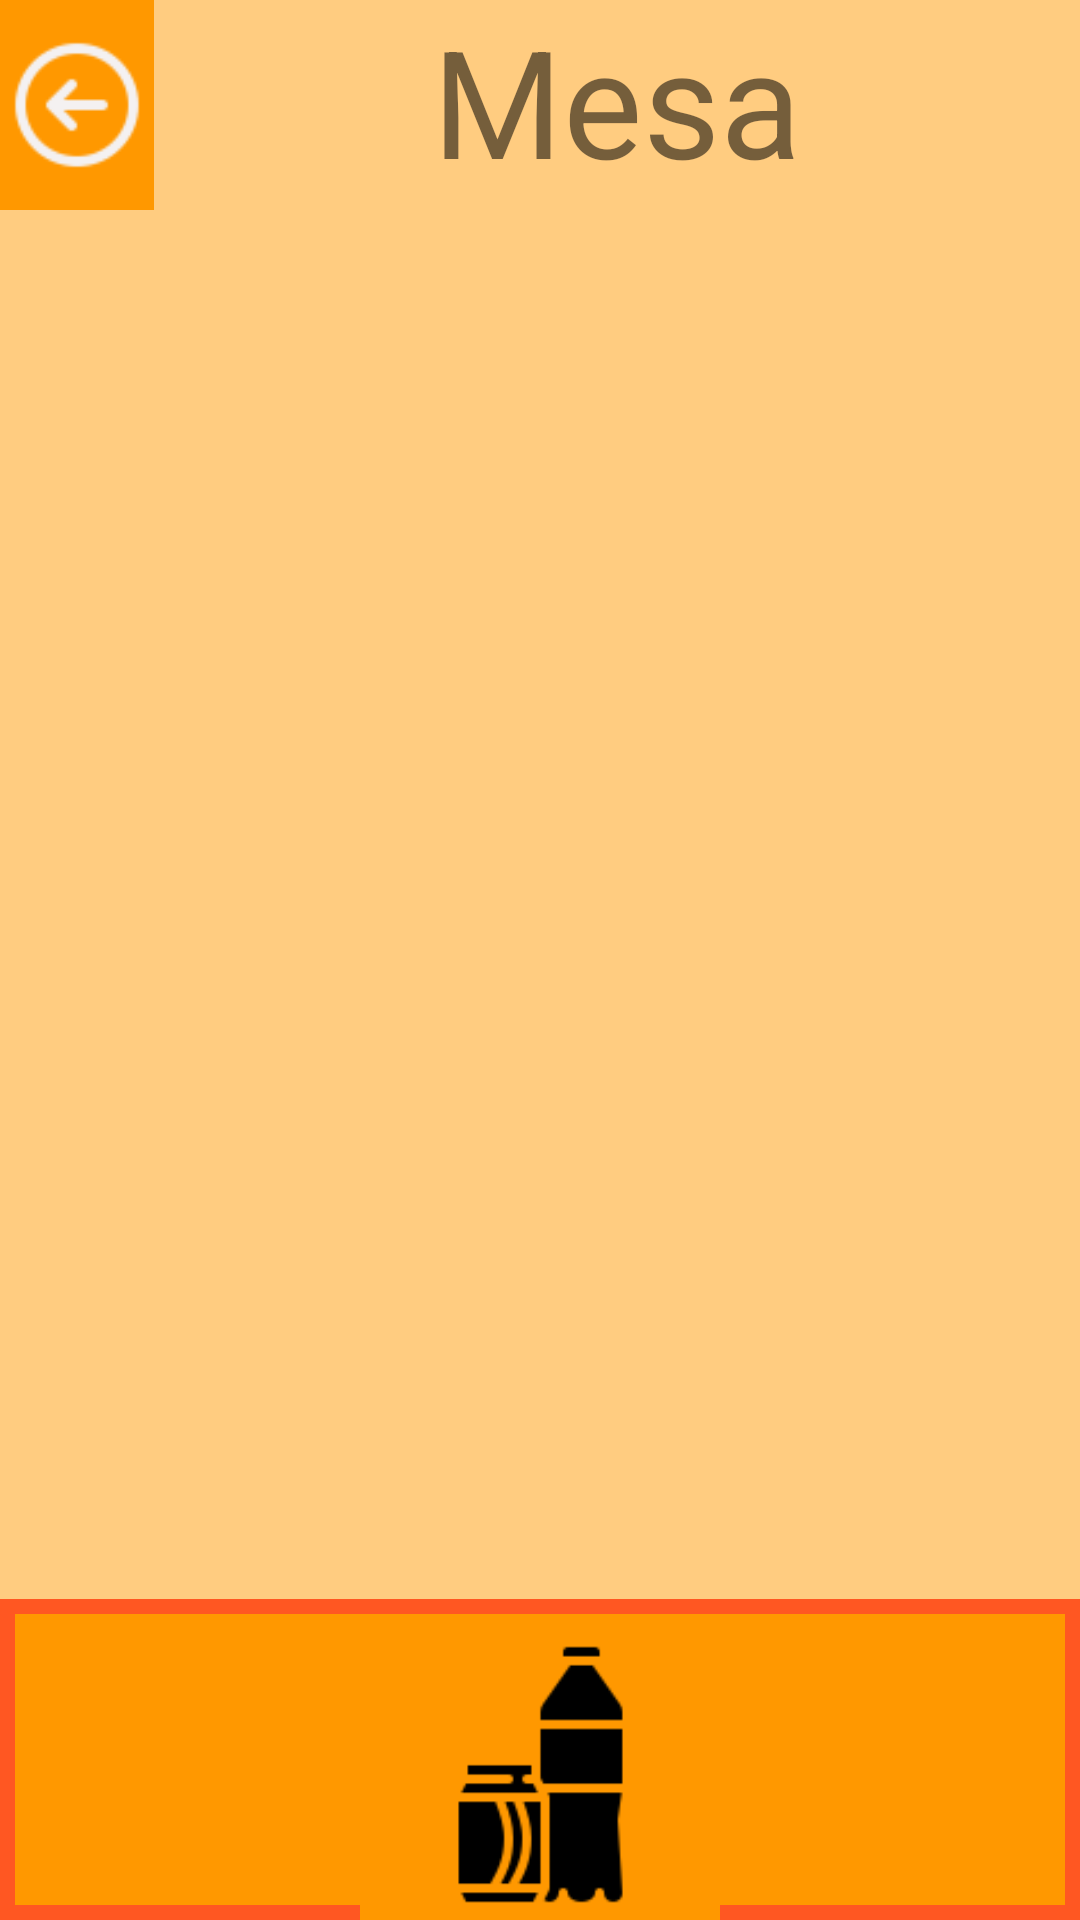

Icons on this 1080w x 1920h Android screen, each with its box as (x1, y1, x2, y2):
back: (0, 0, 154, 210)
bebida: (458, 1646, 623, 1903)
